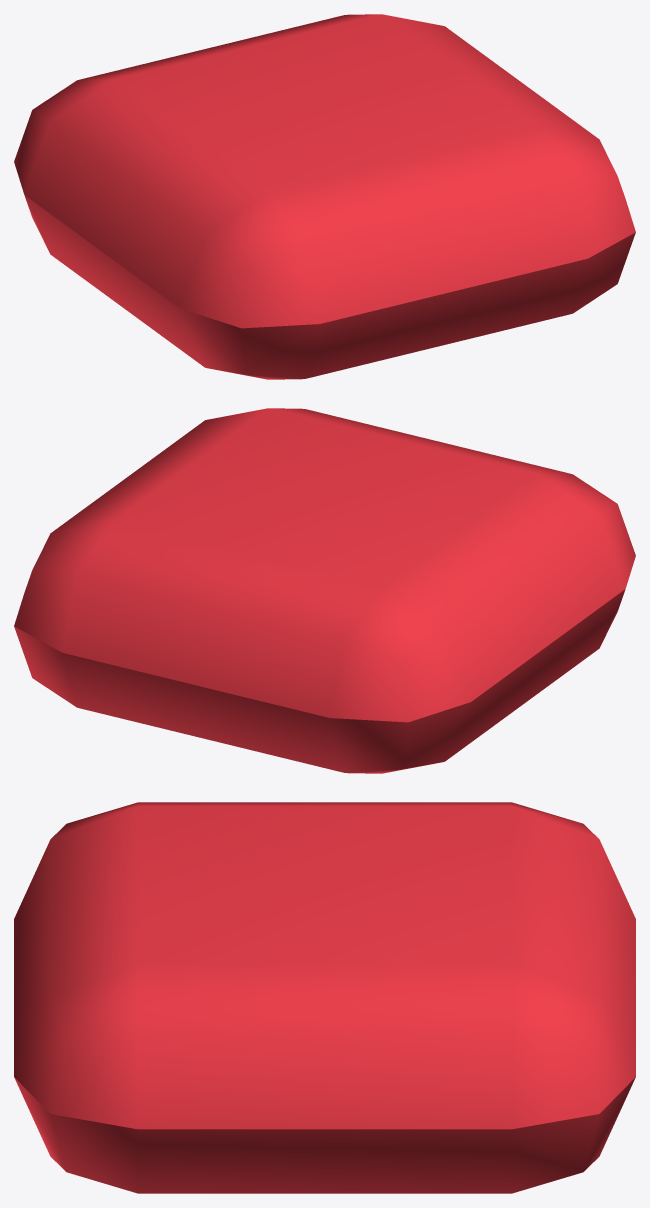
Rendered from CROSSOVER_Seatbelt_Buckle_RedBut_161.glb.
3 renders of one model, top to bottom at view 1: azimuth 30°, elevation 25°; view 2: azimuth 150°, elevation 25°; view 3: azimuth 270°, elevation 25°, orthographic. The views are drawn at different scales.
Visible parts, largest first — view 1: CROSSOVER_Seatbelt_Buckle_RedButton_Driver; view 2: CROSSOVER_Seatbelt_Buckle_RedButton_Driver; view 3: CROSSOVER_Seatbelt_Buckle_RedButton_Driver.
Boxes of the visible parts, x1,y1,x2,y2 form: CROSSOVER_Seatbelt_Buckle_RedButton_Driver: (14,14,635,379); CROSSOVER_Seatbelt_Buckle_RedButton_Driver: (14,408,635,773); CROSSOVER_Seatbelt_Buckle_RedButton_Driver: (14,802,635,1193).
Bounding box in the file's own units: 0.025 × 0.01 × 0.025.
